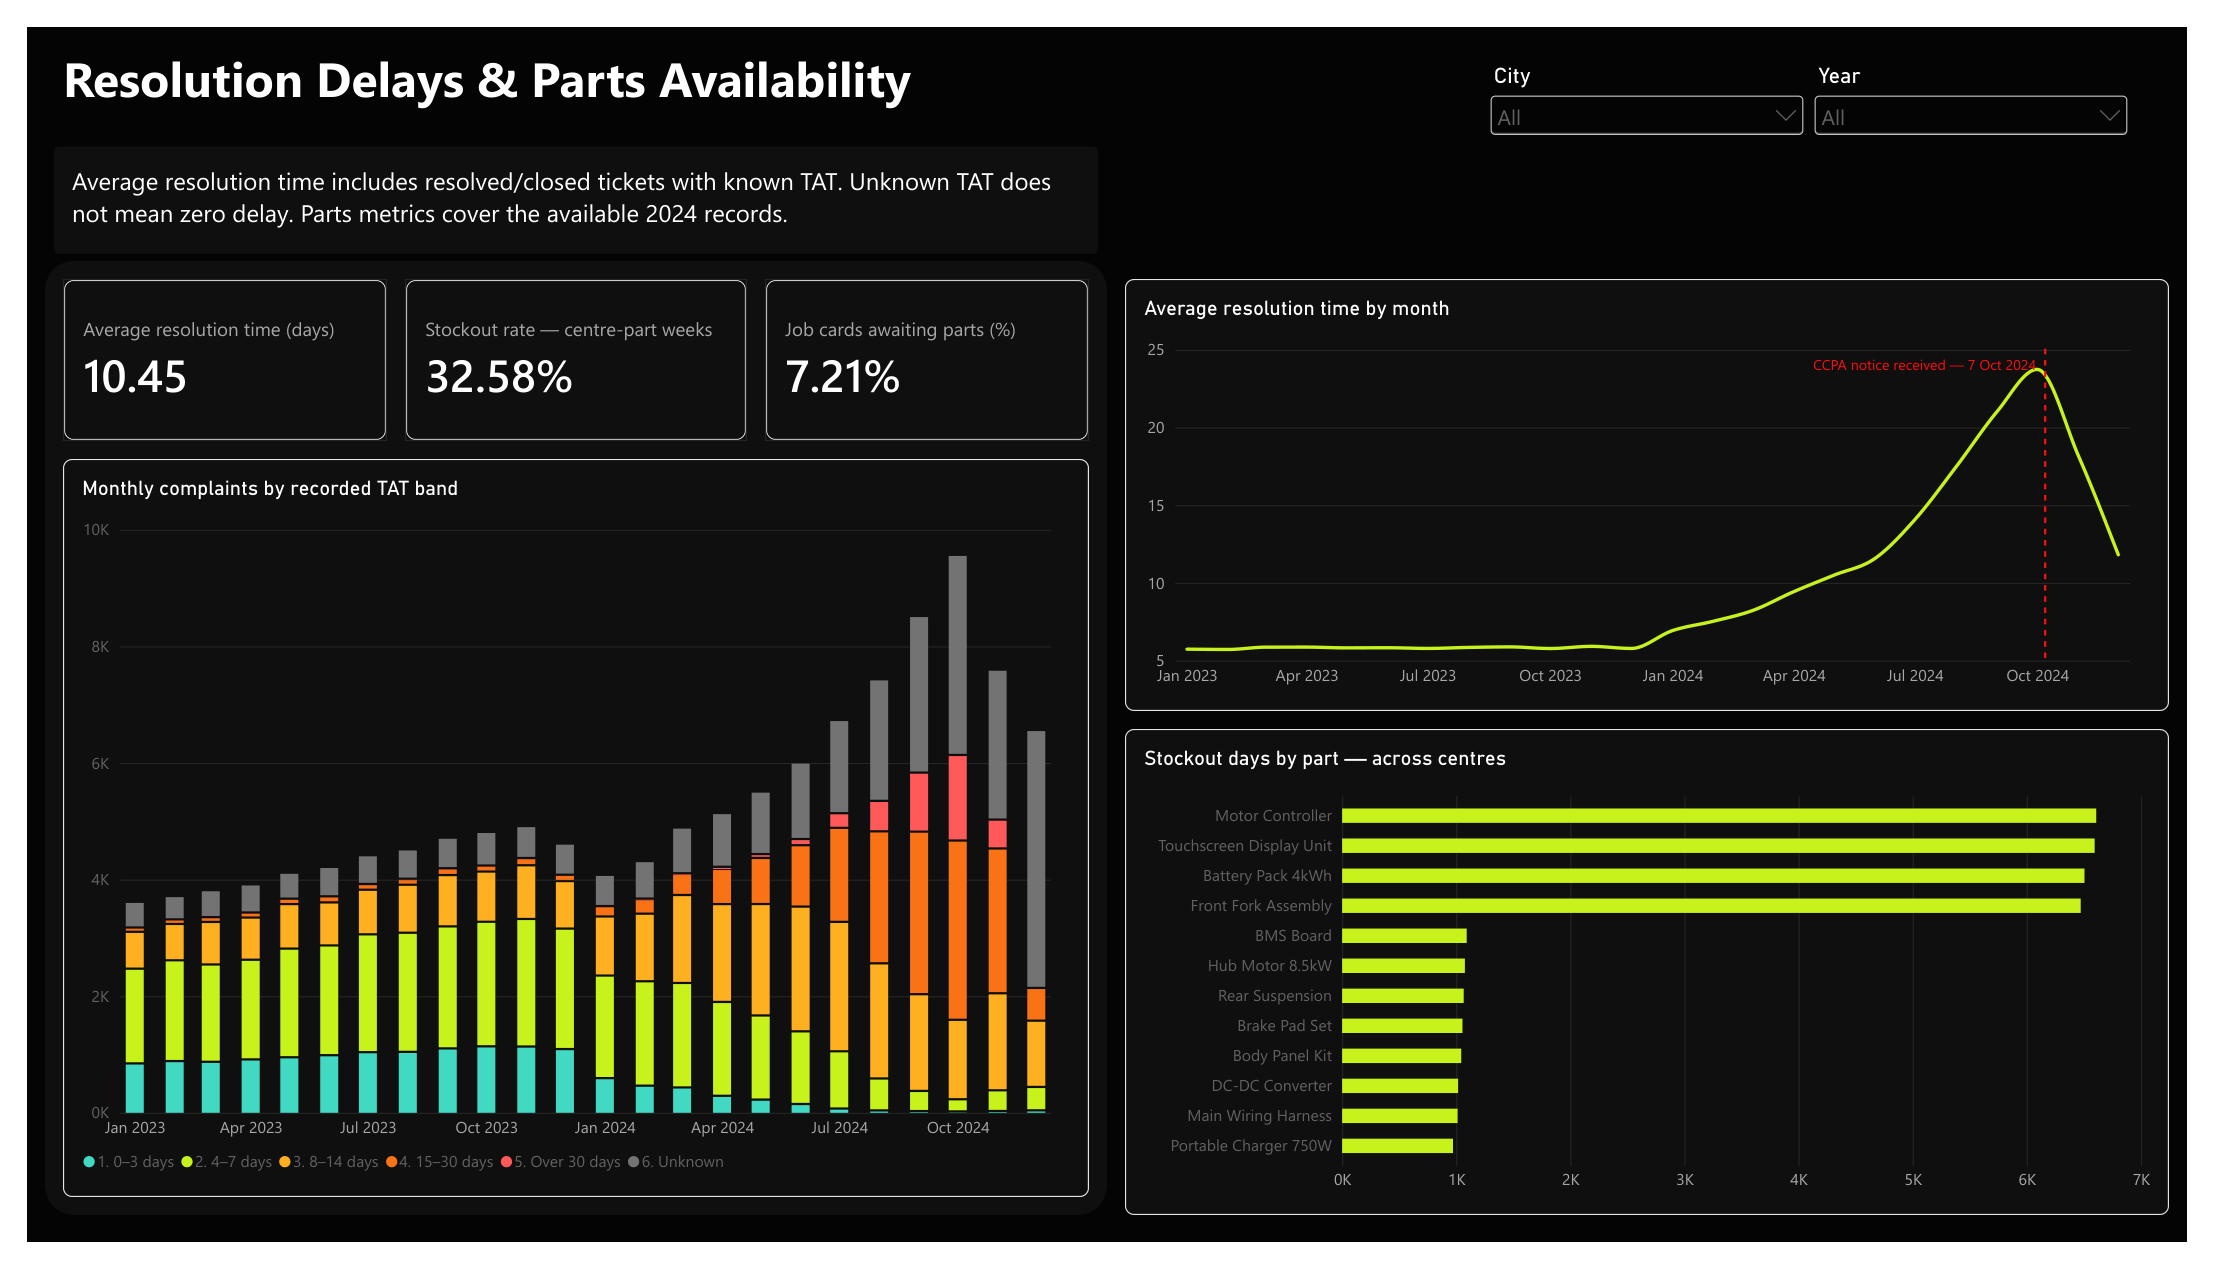

This screenshot's page, from the dashboard's own definition file:
{"tool":"powerbi","page":{"name":"TAT & Parts Tracker","canvas":[1920,1080],"ordinal":3},"visuals":[{"type":"shape","box":[23.7,106,928,96],"z":0},{"type":"shape","box":[16,208,944,848],"z":1000},{"type":"slicer","fields":{"Values":["ola_star dim_city.city_name"]},"box":[1296,32,288,80],"z":2000},{"type":"slicer","fields":{"Values":["ola_star dim_date.year"]},"box":[1584,32,288,80],"z":3000},{"type":"lineChart","title":"Average resolution time by month","fields":{"Category":["ola_star dim_date.Month Start"],"Y":["ola_star fact_complaints.Average TAT Days"]},"box":[976,224,928,384],"z":4000},{"type":"barChart","title":"Stockout days by part — across centres","fields":{"Category":["ola_star fact_spare_parts.part_name"],"Y":["ola_star fact_spare_parts.Total Stockout Days"]},"box":[976,624,928,432],"z":5000},{"type":"columnChart","title":"Monthly complaints by recorded TAT band","fields":{"Category":["ola_star dim_date.Month Start"],"Series":["ola_star fact_complaints.TAT Band"],"Y":["ola_star fact_complaints.Total Complaints"]},"box":[32,384,912,656],"z":6000},{"type":"cardVisual","fields":{"Data":["ola_star fact_complaints.Average TAT Days"]},"box":[32,224,288,144],"z":7000},{"type":"cardVisual","fields":{"Data":["ola_star fact_jobcards.Awaiting Parts Share"]},"box":[656,224,288,144],"z":8000},{"type":"cardVisual","fields":{"Data":["ola_star fact_spare_parts.Stockout Rate"]},"box":[336,224,304,144],"z":9000},{"type":"textbox","box":[32,16,848,80],"z":10000},{"type":"textbox","box":[39.7,122,896,80],"z":11000}]}

Visuals, with their boxes in screenshot pixels (x1, y1, x2, y2), scaled from the page's 1920x1080 canvas onto the 2214x1269 screenshot:
shape: <region>27, 125, 1097, 237</region>
shape: <region>18, 244, 1107, 1241</region>
slicer - ola_star dim_city.city_name: <region>1494, 38, 1827, 132</region>
slicer - ola_star dim_date.year: <region>1827, 38, 2159, 132</region>
"Average resolution time by month" lineChart: <region>1125, 263, 2196, 714</region>
"Stockout days by part — across centres" barChart: <region>1125, 733, 2196, 1241</region>
"Monthly complaints by recorded TAT band" columnChart: <region>37, 451, 1089, 1222</region>
cardVisual - ola_star fact_complaints.Average TAT Days: <region>37, 263, 369, 432</region>
cardVisual - ola_star fact_jobcards.Awaiting Parts Share: <region>756, 263, 1089, 432</region>
cardVisual - ola_star fact_spare_parts.Stockout Rate: <region>387, 263, 738, 432</region>
textbox: <region>37, 19, 1015, 113</region>
textbox: <region>46, 143, 1079, 237</region>
